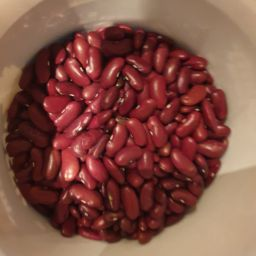Pinto Beans (kidney beans): (1, 23, 252, 249), (54, 68, 198, 186)
